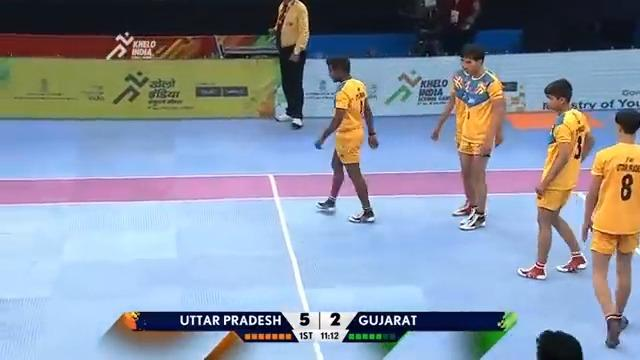Player: (516, 76, 594, 281), (429, 43, 507, 231), (312, 54, 381, 225), (601, 105, 640, 360)
referee: (269, 0, 310, 129), (408, 0, 481, 56)
